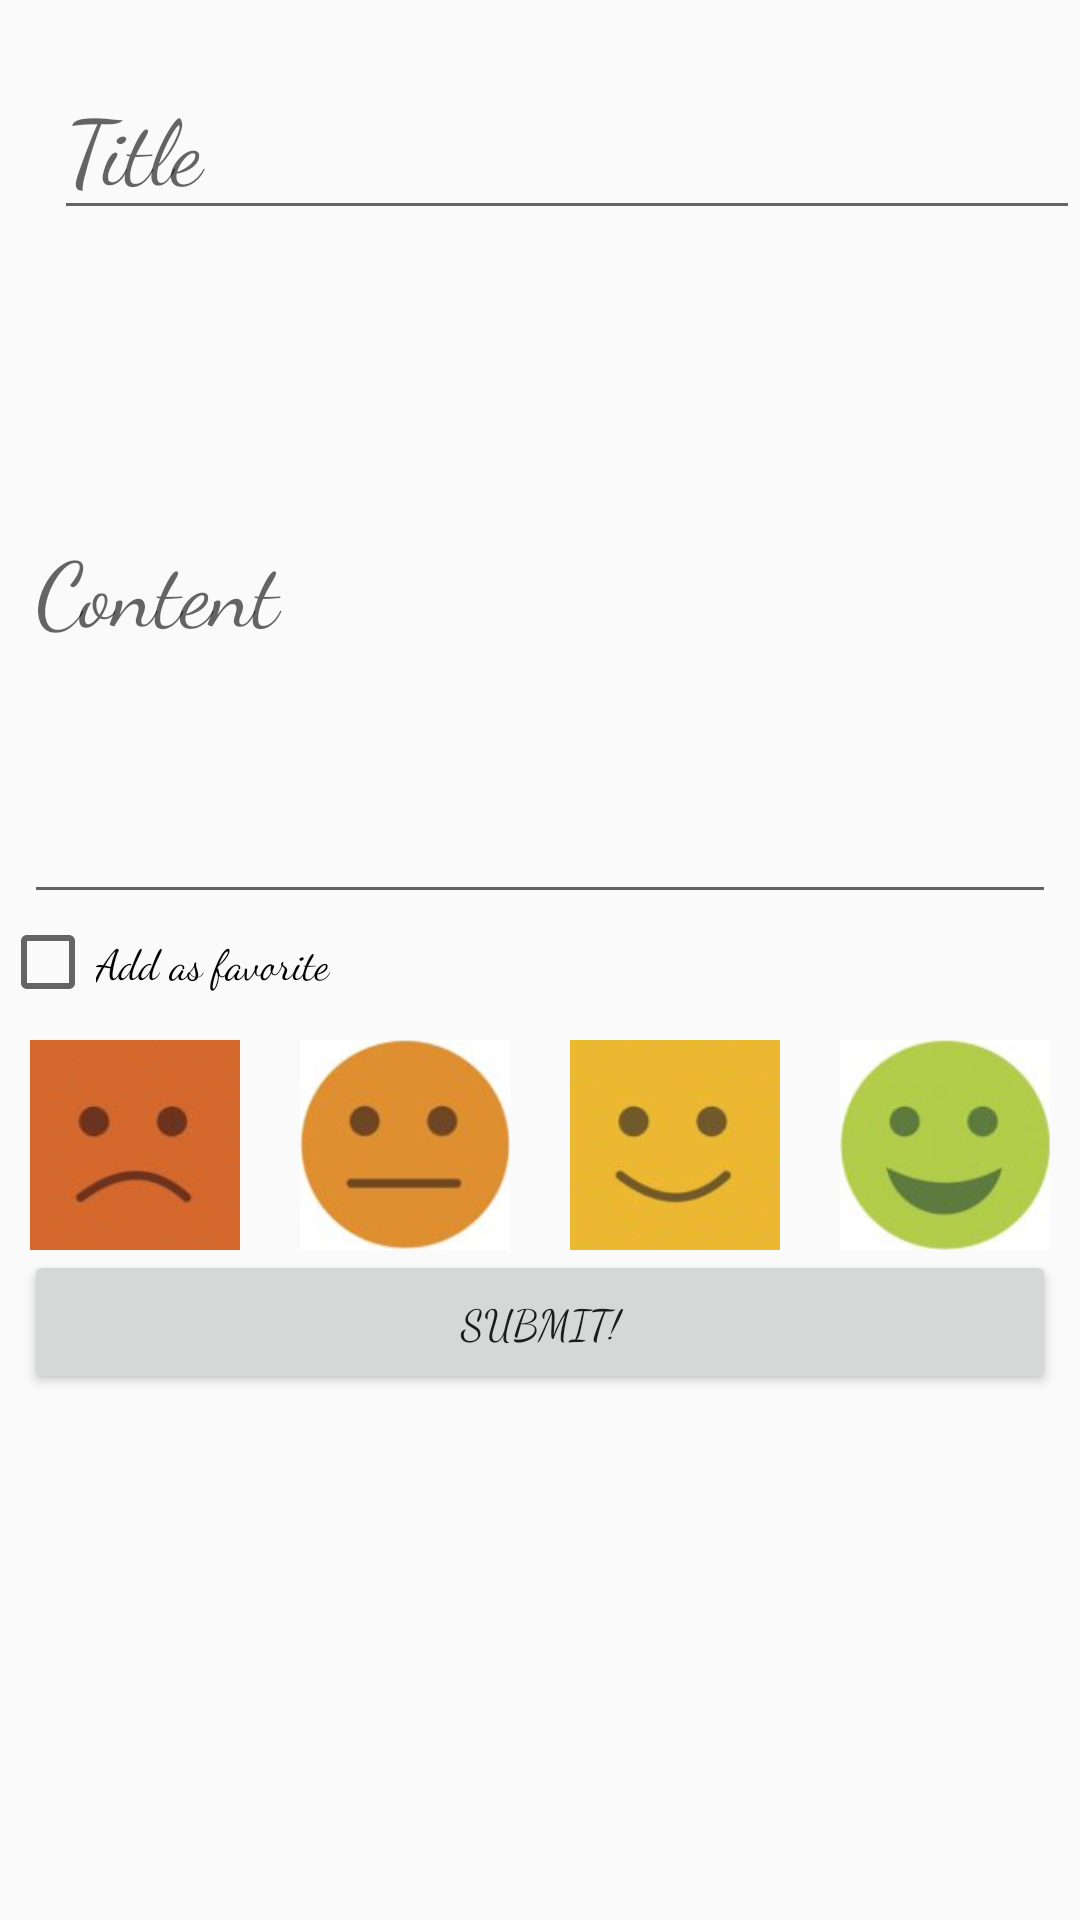

Named icons in this screenshot (1080*1920) and their bounding boxes, (x1, y1, x2, y2):
positive: (840, 1040, 1050, 1250)
sad: (30, 1040, 240, 1250)
